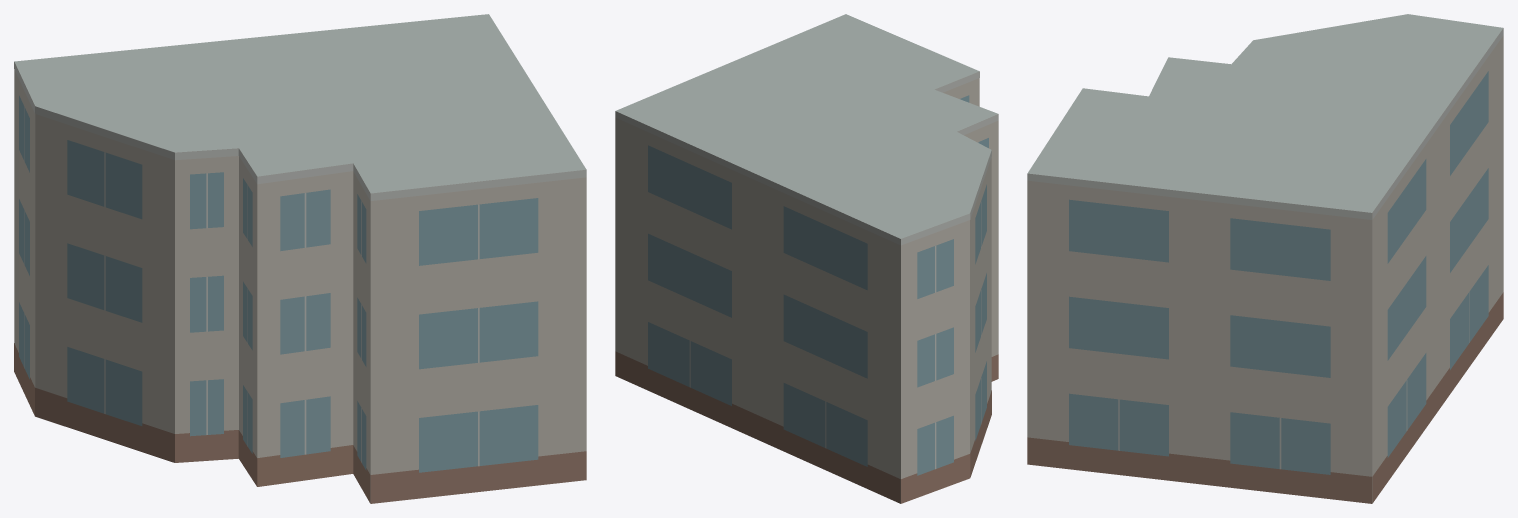
File: survey-upis-32983005.glb
The picture shows the model from 3 angles, left to right: view 1: azimuth 30°, elevation 25°; view 2: azimuth 150°, elevation 25°; view 3: azimuth 270°, elevation 25°; orthographic projection. The views are drawn at different scales.
Visible parts, largest first — view 1: survey-upis-32983005.tmp; view 2: survey-upis-32983005.tmp; view 3: survey-upis-32983005.tmp.
Part boxes in pixels (bbox=[...]): survey-upis-32983005.tmp: bbox=[14, 14, 586, 503]; survey-upis-32983005.tmp: bbox=[615, 14, 998, 503]; survey-upis-32983005.tmp: bbox=[1027, 14, 1503, 503].
Size of the model in its own units: 14.52 by 9.9 by 14.7.
